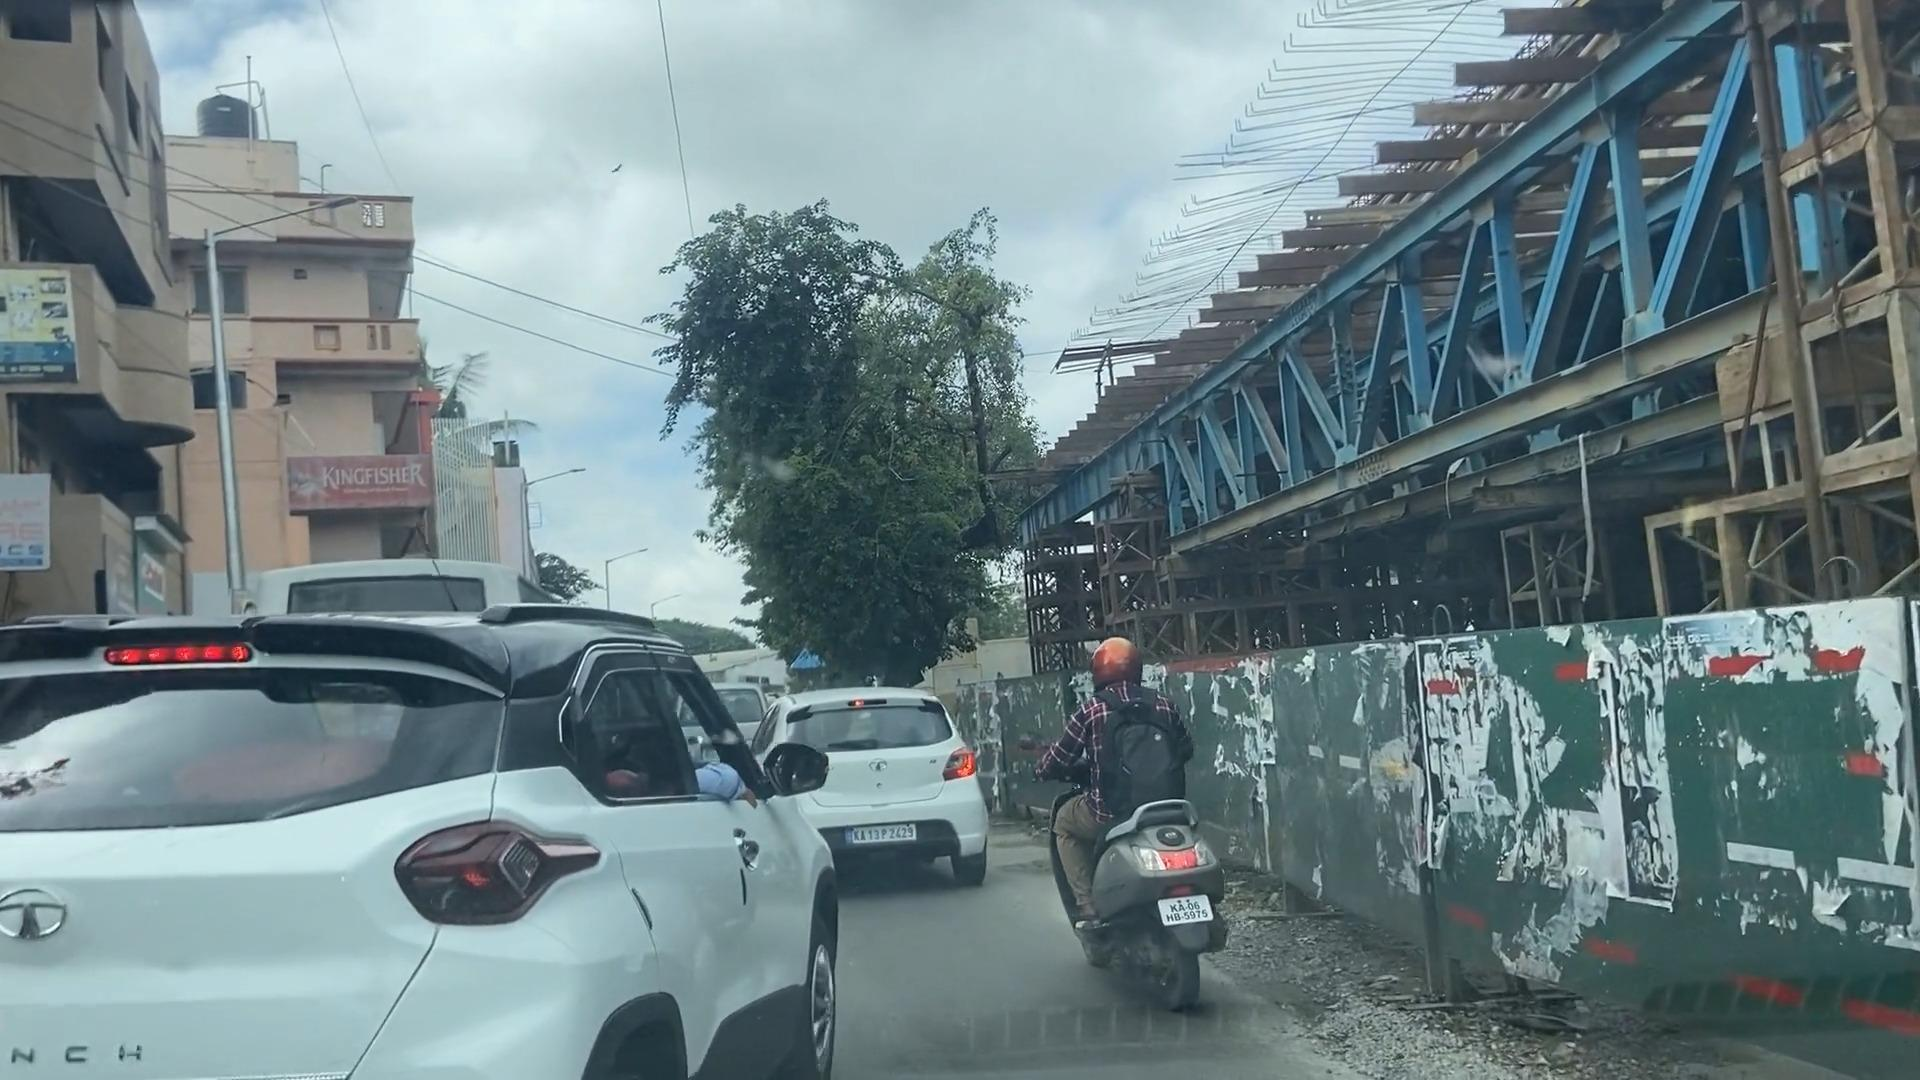LMV: (1065, 662, 1199, 998)
